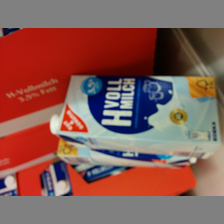milk: (44, 74, 224, 164)
